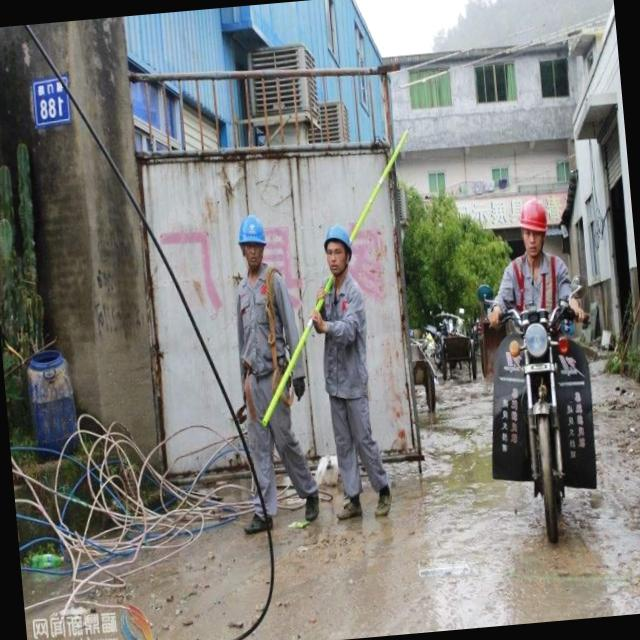helmet: (512, 195, 555, 249), (316, 220, 355, 271), (232, 211, 270, 262)
